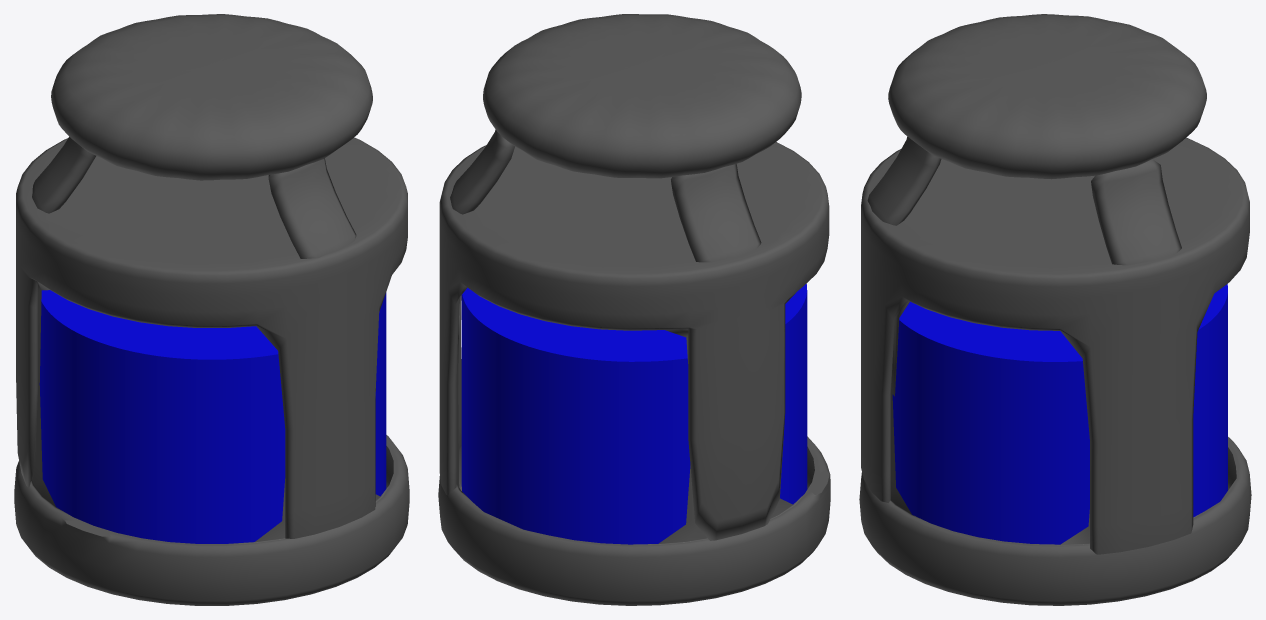
The model's file is PocionDeLaVersh.fbx.
The picture shows the model from 3 angles, left to right: view 1: azimuth 30°, elevation 25°; view 2: azimuth 150°, elevation 25°; view 3: azimuth 270°, elevation 25°; orthographic projection.
Visible parts, largest first — view 1: pCube4; view 2: pCube4; view 3: pCube4.
Boxes of the visible parts, box(x1,y1,x2,y2) form: pCube4: box(14, 14, 409, 605); pCube4: box(438, 14, 830, 605); pCube4: box(859, 14, 1251, 605).
Size of the model in its own units: 42.93 by 55.46 by 42.93.
